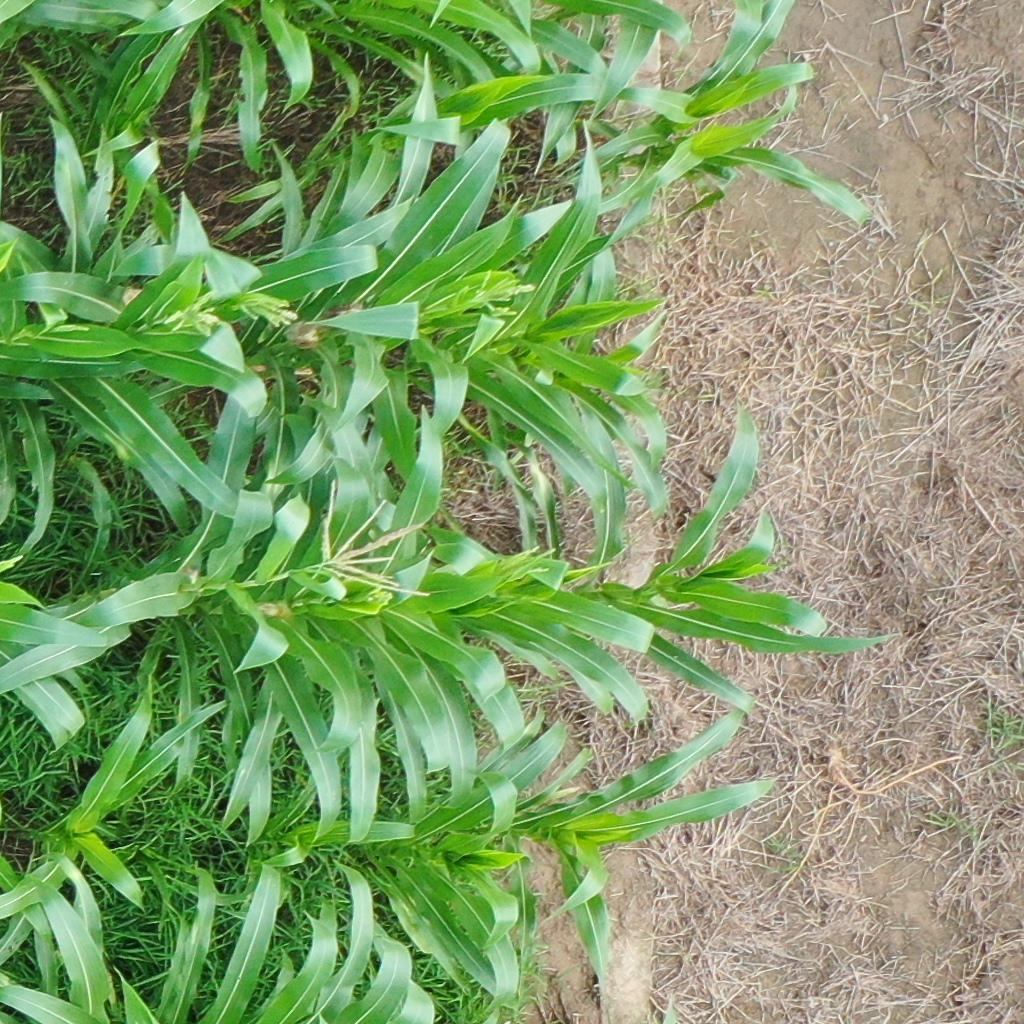Tassel: (298, 474, 430, 598), (156, 286, 225, 340), (470, 268, 533, 318), (492, 542, 556, 586), (238, 282, 297, 328)
